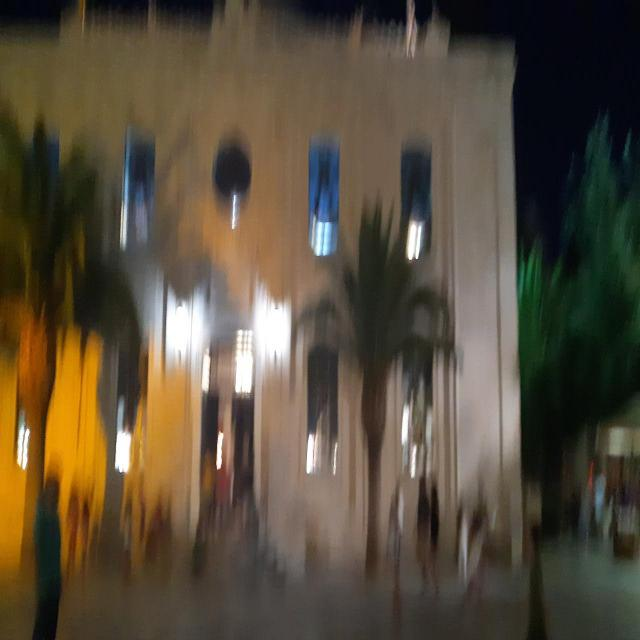Agios Titos: (9, 23, 523, 572)
